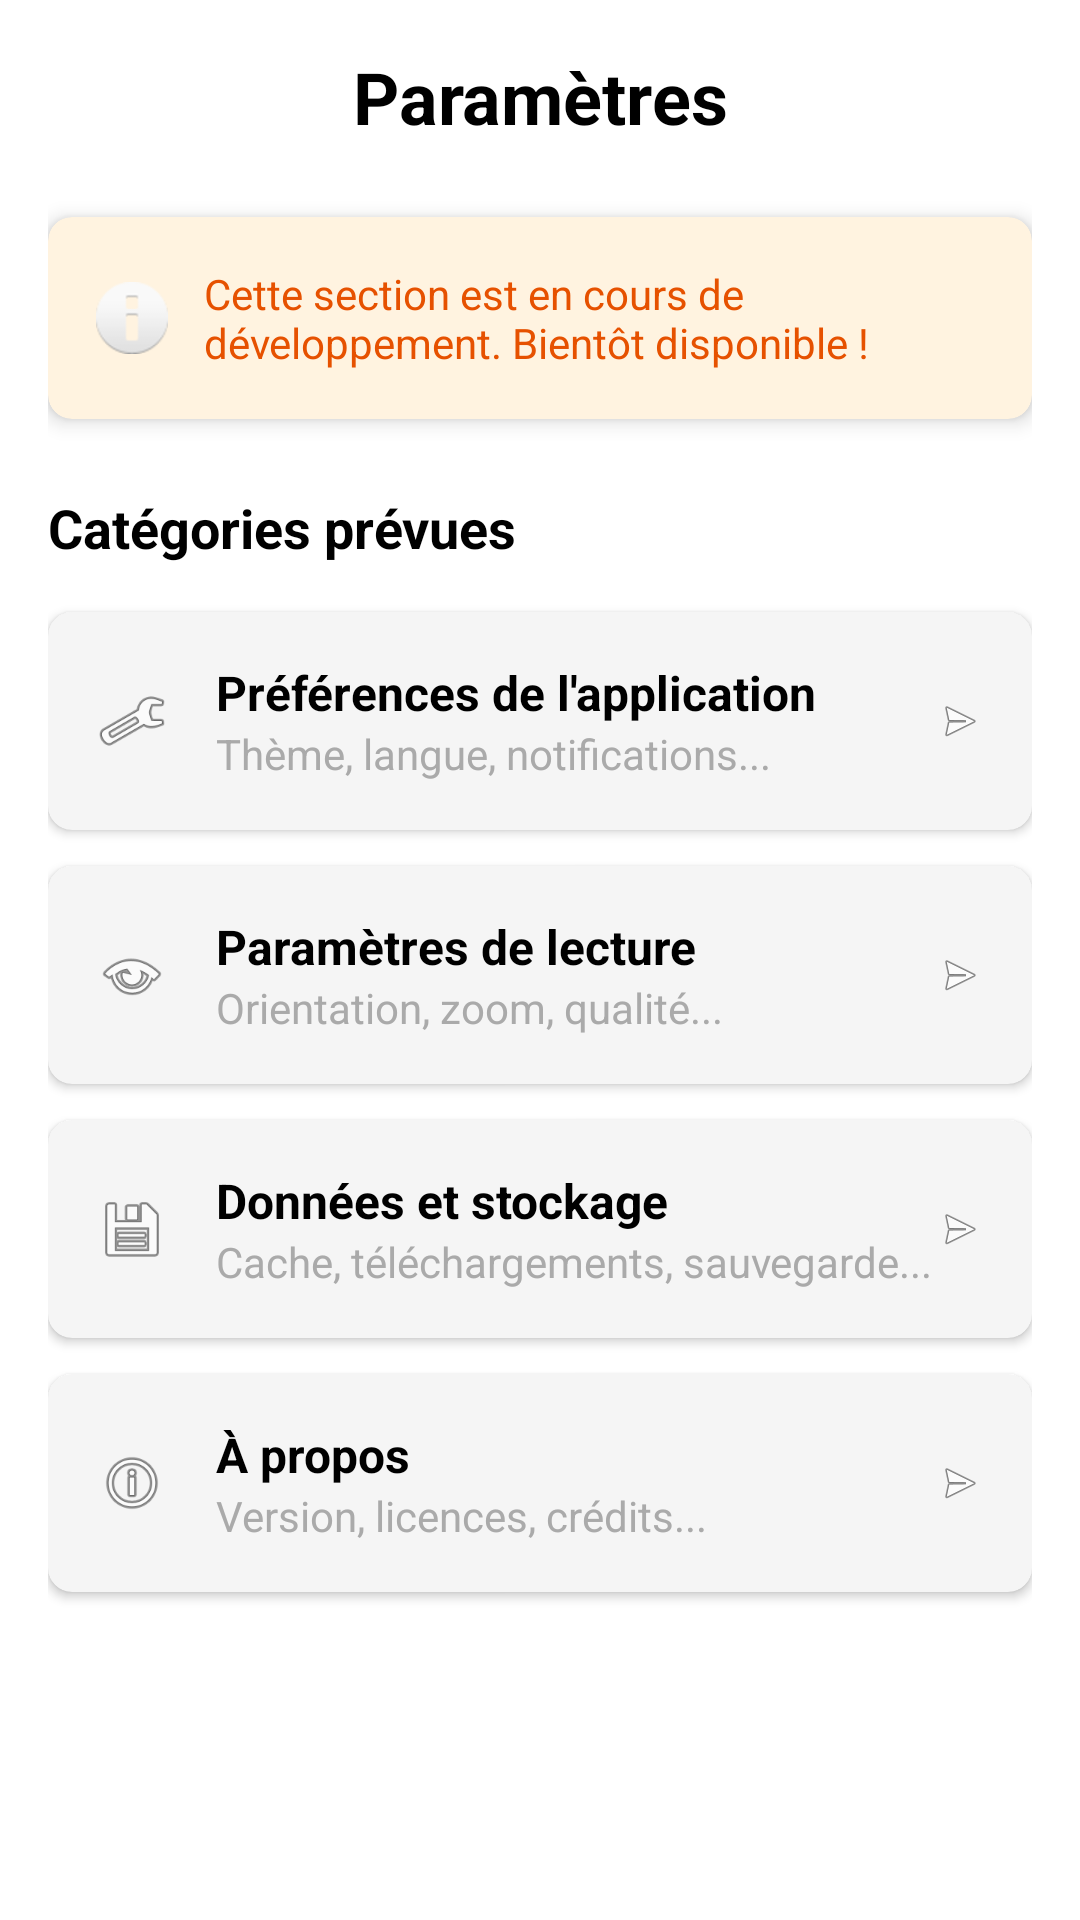

Where icons sit on this 1080x1920 app screen, as (x1, y1, x2, y2):
About: (106, 1457, 158, 1509)
App Settings: (99, 696, 164, 746)
Arrow: (945, 706, 976, 736), (945, 960, 976, 990), (945, 1214, 976, 1244), (945, 1468, 976, 1498)
Info: (96, 282, 168, 354)
Reading Settings: (103, 958, 161, 995)
Storage Settings: (105, 1202, 159, 1257)
